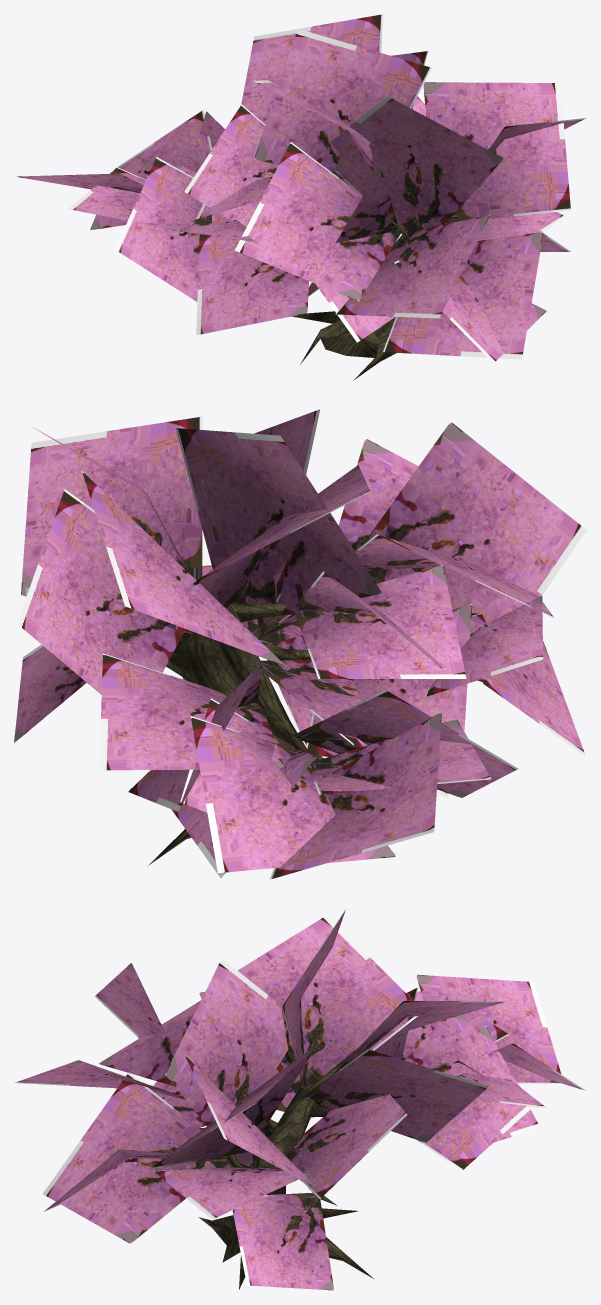
Rendered from Utility_Tree01_LOD2.FBX.
The picture shows the model from 3 angles, top to bottom: view 1: azimuth 30°, elevation 25°; view 2: azimuth 150°, elevation 25°; view 3: azimuth 270°, elevation 25°; orthographic projection. The views are drawn at different scales.
Parts seen in each view (by area): view 1: cmc_shu01_02_LOD2, cmc_shu01_01_LOD2; view 2: cmc_shu01_02_LOD2, cmc_shu01_01_LOD2; view 3: cmc_shu01_02_LOD2, cmc_shu01_01_LOD2.
Part boxes in pixels (left/top/right/bottom): cmc_shu01_02_LOD2: left=15, top=14, right=586, bottom=363; cmc_shu01_01_LOD2: left=267, top=171, right=407, bottom=380; cmc_shu01_02_LOD2: left=14, top=409, right=586, bottom=879; cmc_shu01_01_LOD2: left=61, top=602, right=384, bottom=866; cmc_shu01_02_LOD2: left=14, top=909, right=585, bottom=1290; cmc_shu01_01_LOD2: left=162, top=1039, right=373, bottom=1289.
Bounding box in the file's own units: 2225 × 1546 × 2433.
2 materials, 2 textured.
